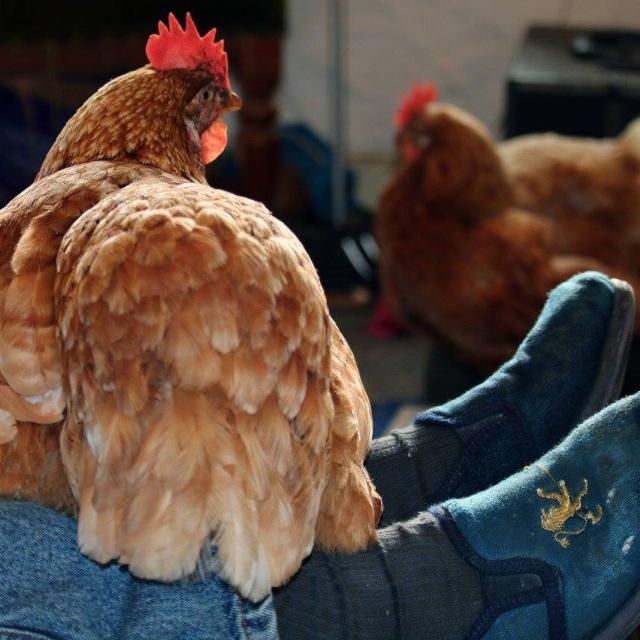Chicken: (0, 8, 385, 597), (373, 76, 640, 369)
